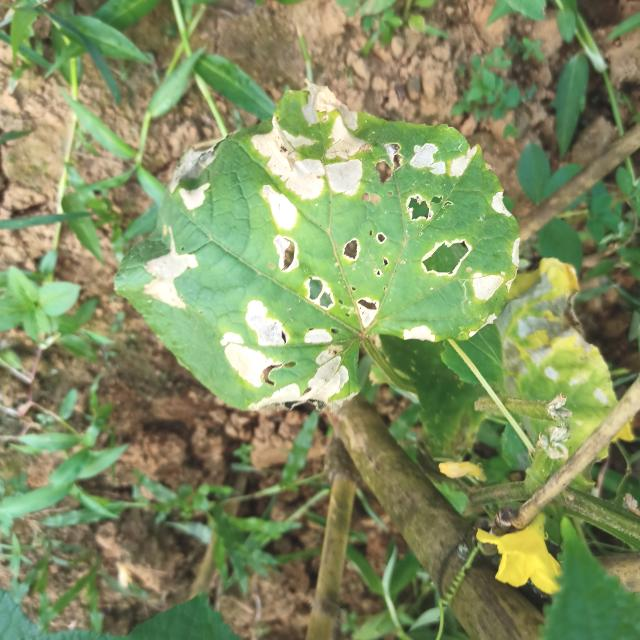disease_cucumber: (138, 93, 519, 384)
